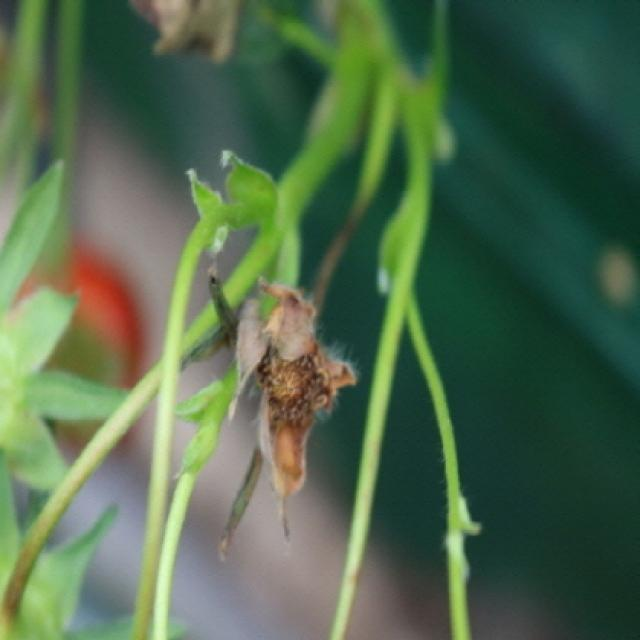Gray Mold: (229, 274, 361, 544)
